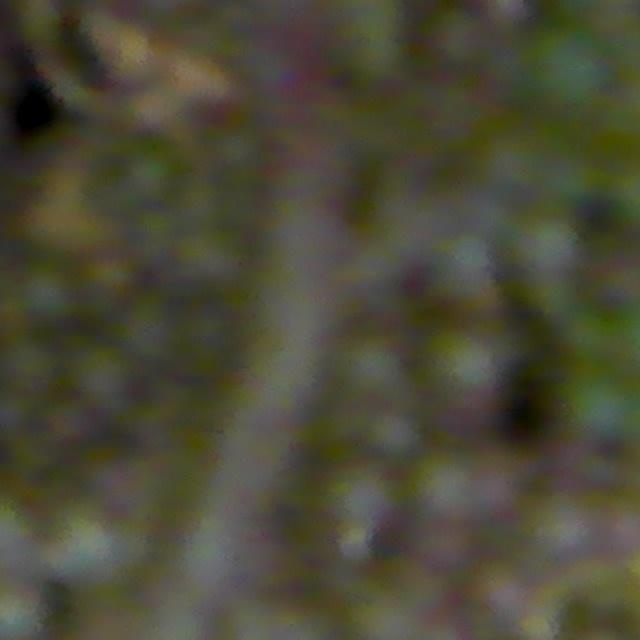SeaGrape: (533, 10, 621, 106), (422, 328, 508, 417), (519, 488, 612, 567), (323, 461, 401, 535), (563, 367, 638, 443), (403, 460, 487, 524), (513, 214, 582, 281), (338, 333, 405, 399), (68, 343, 134, 409), (16, 261, 80, 325), (397, 522, 476, 570), (0, 333, 58, 396), (471, 565, 535, 621), (365, 407, 420, 461)
